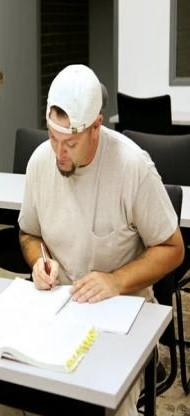good: (3, 60, 190, 380)
